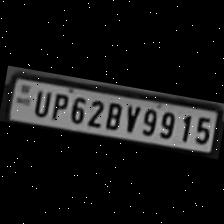1: (173, 111, 194, 142)
2: (83, 96, 105, 128)
5: (188, 112, 214, 146)
6: (64, 92, 86, 125)
9: (154, 106, 176, 139), (136, 104, 158, 136)
B: (100, 97, 123, 131)
P: (46, 89, 69, 122)
U: (26, 85, 52, 117)
V: (118, 100, 140, 134)
